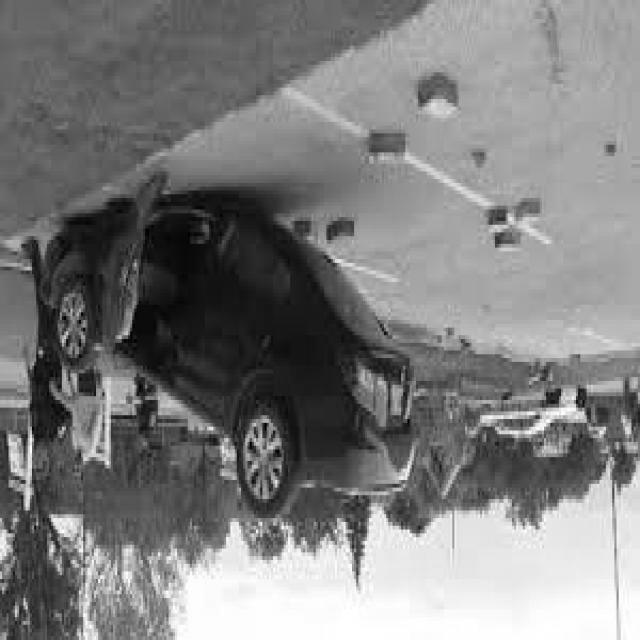severe: (30, 185, 422, 524)
